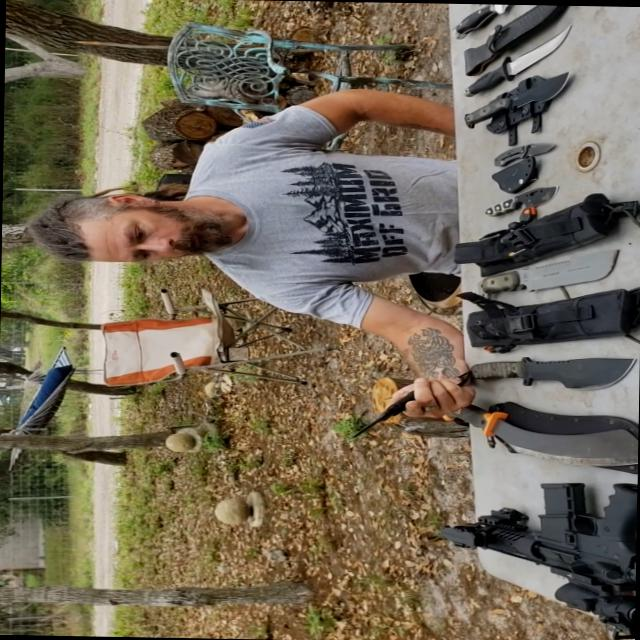knife: (428, 390, 638, 478), (448, 12, 598, 106), (476, 236, 624, 308), (452, 334, 636, 390), (465, 74, 594, 134), (334, 377, 432, 439), (474, 168, 560, 230), (484, 128, 556, 174)
long weapon: (421, 454, 638, 639)
